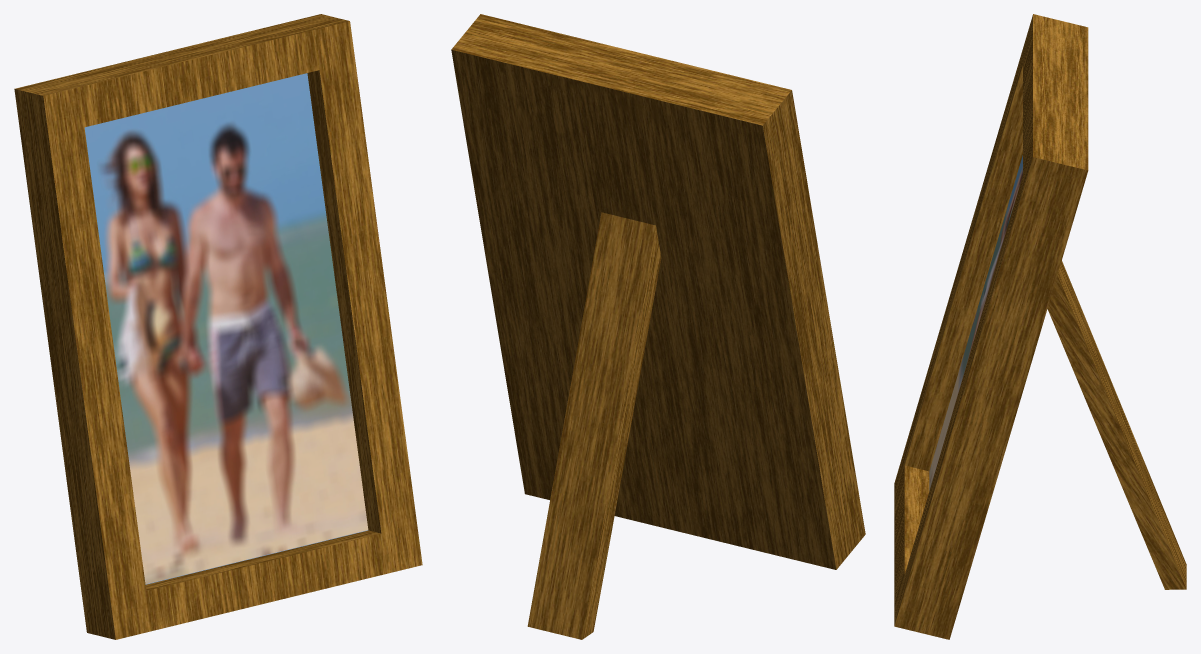
File: Picture4Stand.FBX
The picture shows the model from 3 angles, left to right: view 1: azimuth 30°, elevation 25°; view 2: azimuth 150°, elevation 25°; view 3: azimuth 270°, elevation 25°; orthographic projection. The views are drawn at different scales.
Parts seen in each view (by area): view 1: Box001; view 2: Box001; view 3: Box001.
Part boxes in pixels (left/top/right/bottom): Box001: left=14, top=14, right=422, bottom=639; Box001: left=451, top=14, right=865, bottom=639; Box001: left=894, top=14, right=1186, bottom=639.
Size of the model in its own units: 31.59 by 50.6 by 27.25.
Materials: 2 (2 with a texture image).
